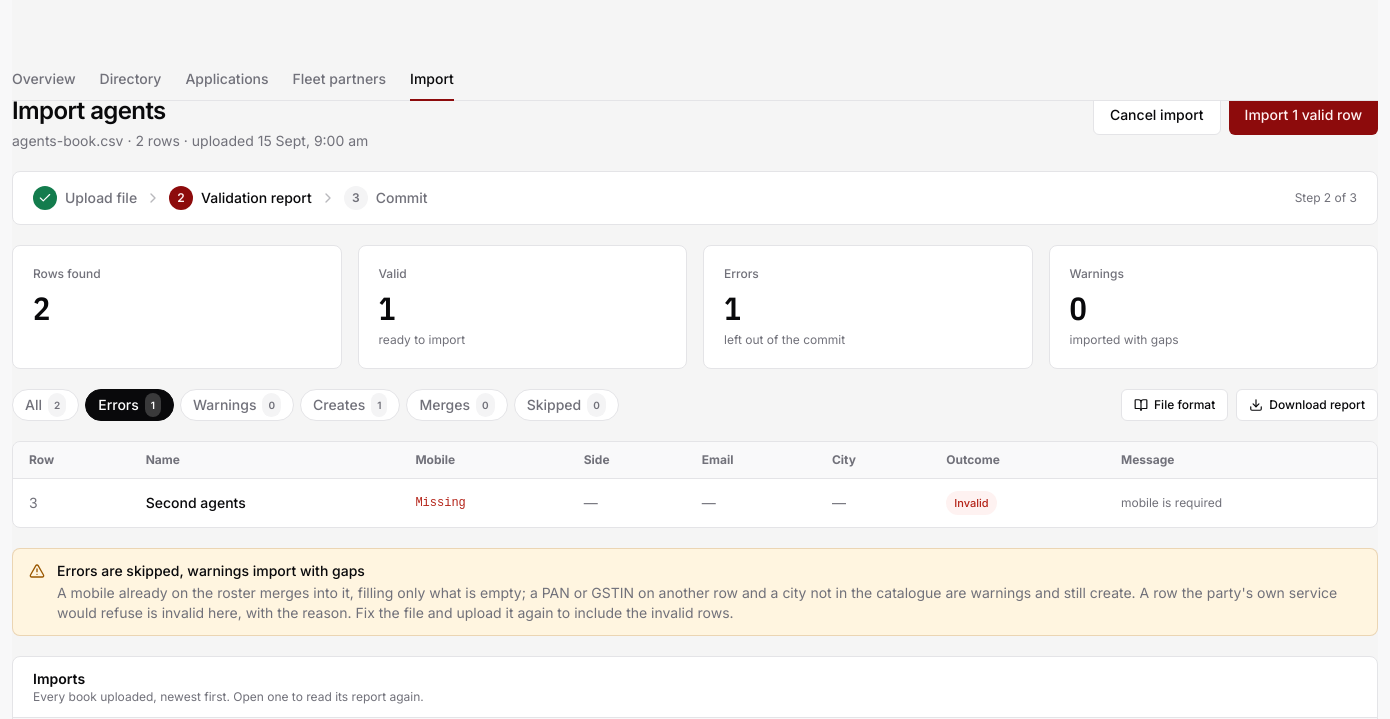
Test: the Import tab › agents: with ?id= reads that import under the party and draws its report on the party's grid
Check: the text "Rows found" is shown, box [33,266,101,281]
Check: the button "Import 1 valid row" is shown, box [1229,95,1378,135]
Click the tab "All 2": {"x": 46, "y": 405} [12,389,79,421]
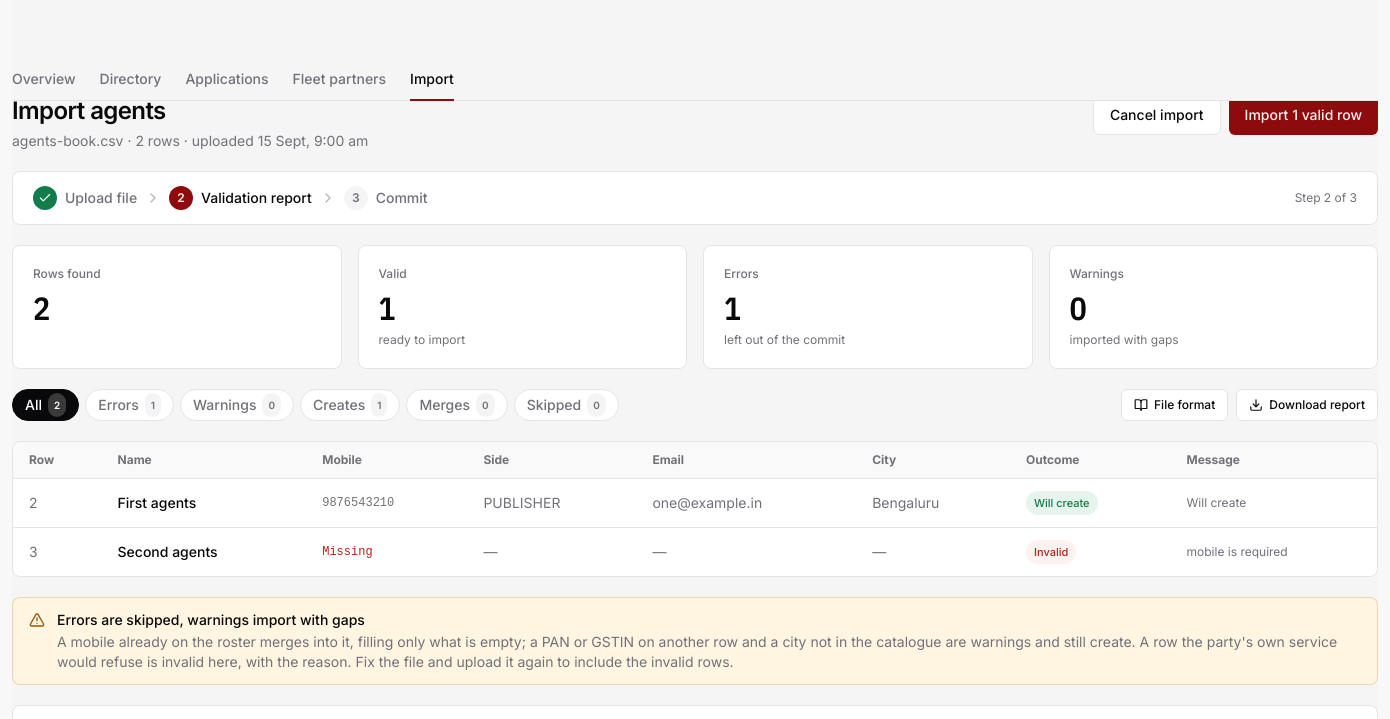
Check: the text "PUBLISHER" is shown, box [467,478,636,528]
